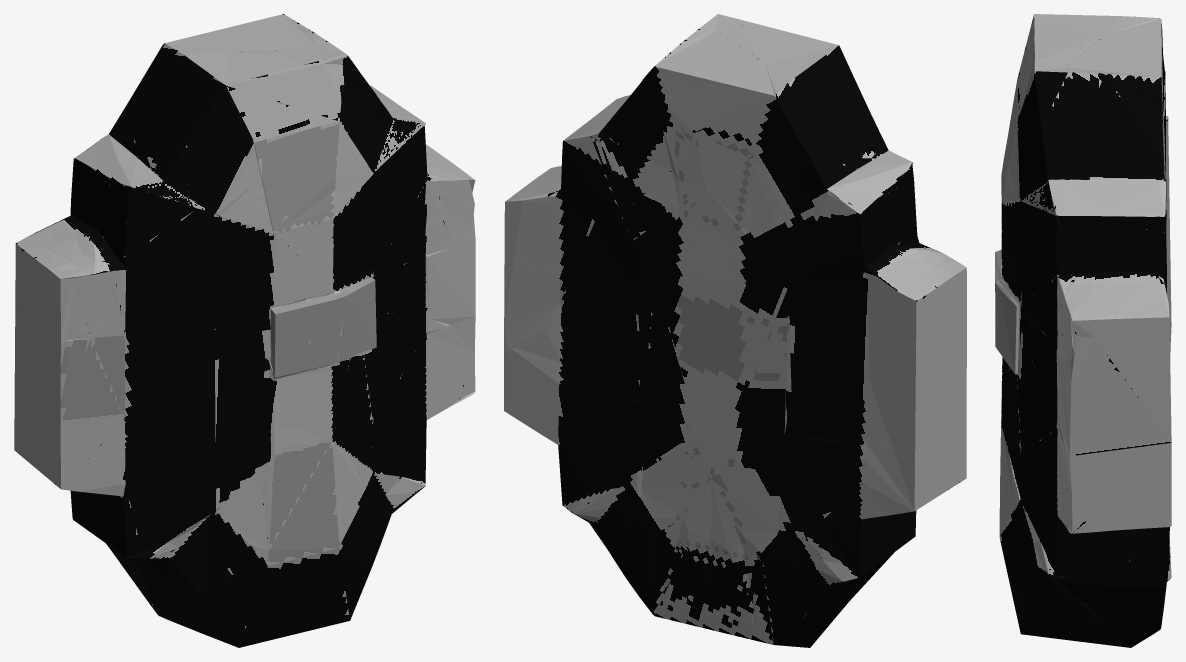
The picture shows the model from 3 angles, left to right: view 1: azimuth 30°, elevation 25°; view 2: azimuth 150°, elevation 25°; view 3: azimuth 270°, elevation 25°; orthographic projection.
Parts seen in each view (by area): view 1: OBJ0a3; view 2: OBJ0a3; view 3: OBJ0a3.
Part boxes in pixels (x1,y1,x2,y2): OBJ0a3: (14, 14, 475, 647); OBJ0a3: (504, 14, 966, 647); OBJ0a3: (995, 14, 1171, 647).
Bounding box in the file's own units: 0.0962 × 0.1248 × 0.0353.
1 material, 1 textured.
